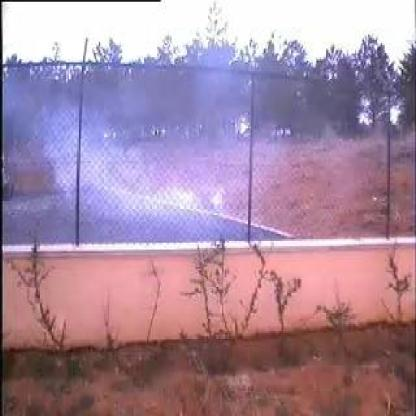-: (77, 74, 253, 249)
